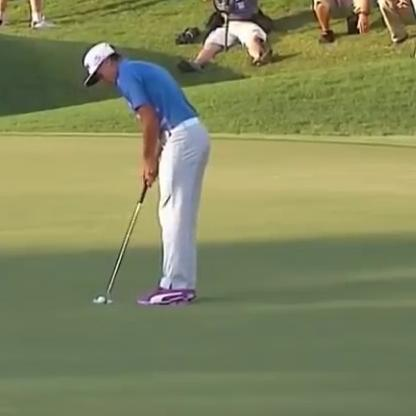golfball: (94, 296, 105, 306)
